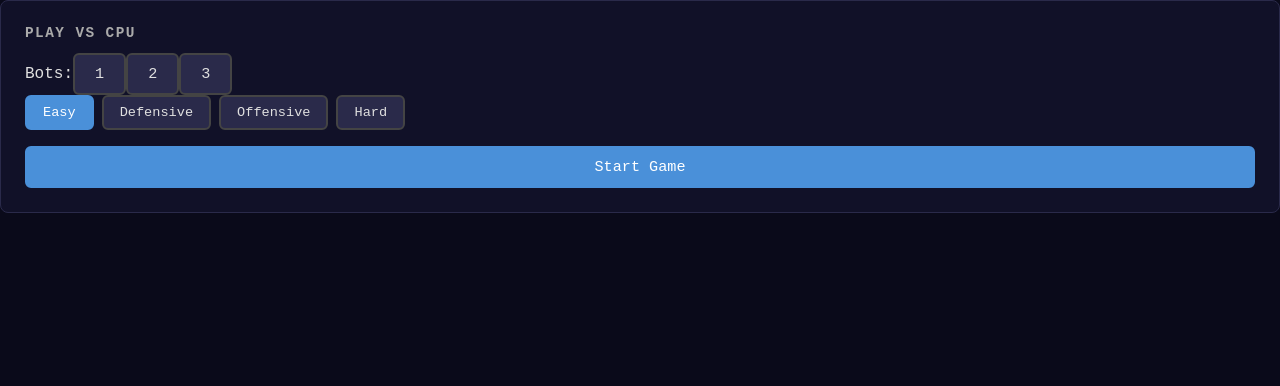
Test: CpuPlayButton › shows Bot labels when multiple bots selected
The image size is (1280, 386).
Expected: the text "Bot 1:" is not shown
Note: 2 bots — Bot 1 and Bot 2
Click the button "2": (153, 74) [126,53,179,95]
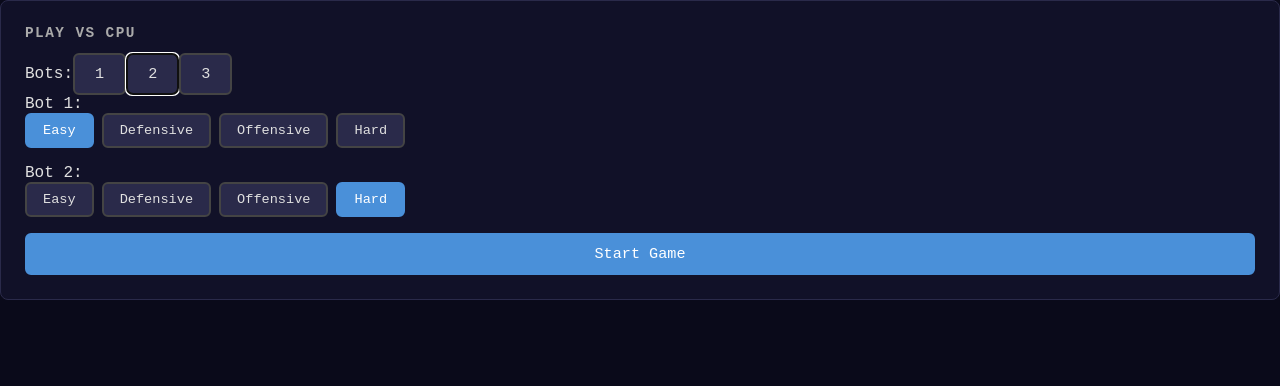
Expected: the text "Bot 1:" is shown, [25,95,83,113]
Expected: the text "Bot 2:" is shown, [25,164,83,182]
Note: 3 bots — Bot 1, 2, and 3
Click the button "3": (206, 74) [179,53,232,95]
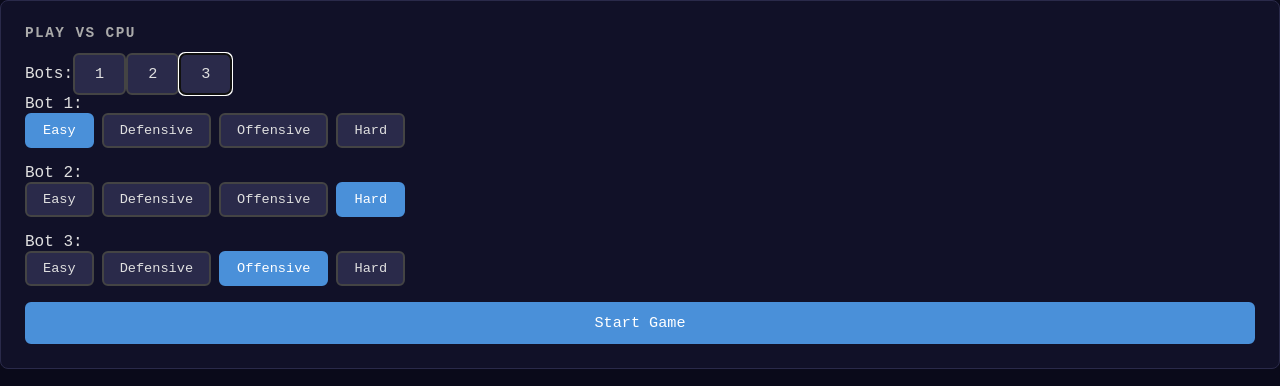
Expected: the text "Bot 1:" is shown, [25,95,83,113]
Expected: the text "Bot 2:" is shown, [25,164,83,182]
Expected: the text "Bot 3:" is shown, [25,233,83,251]
